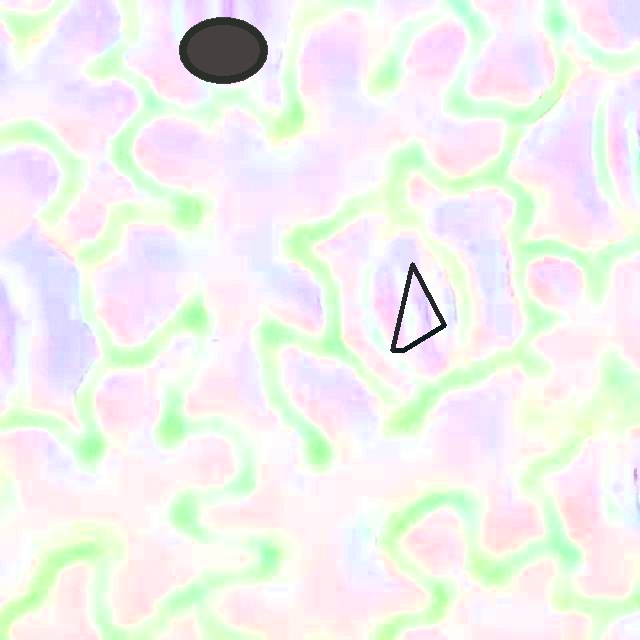open: (179, 17, 267, 83), (391, 263, 445, 352)
